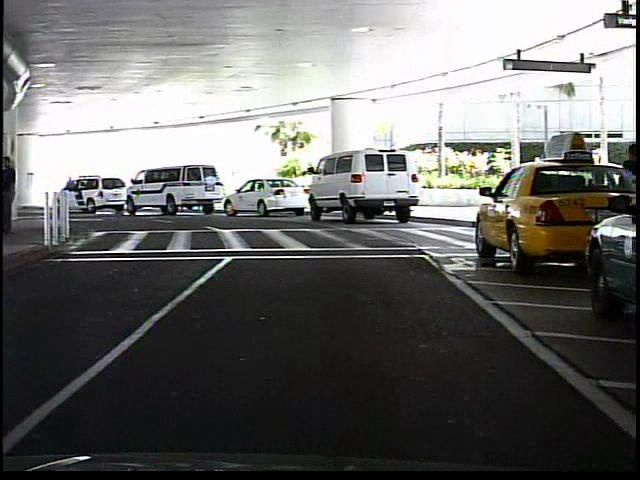person: (6, 150, 23, 232)
